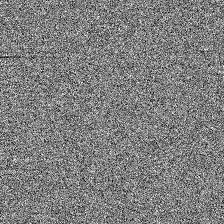cavities: (98, 54, 178, 221)
